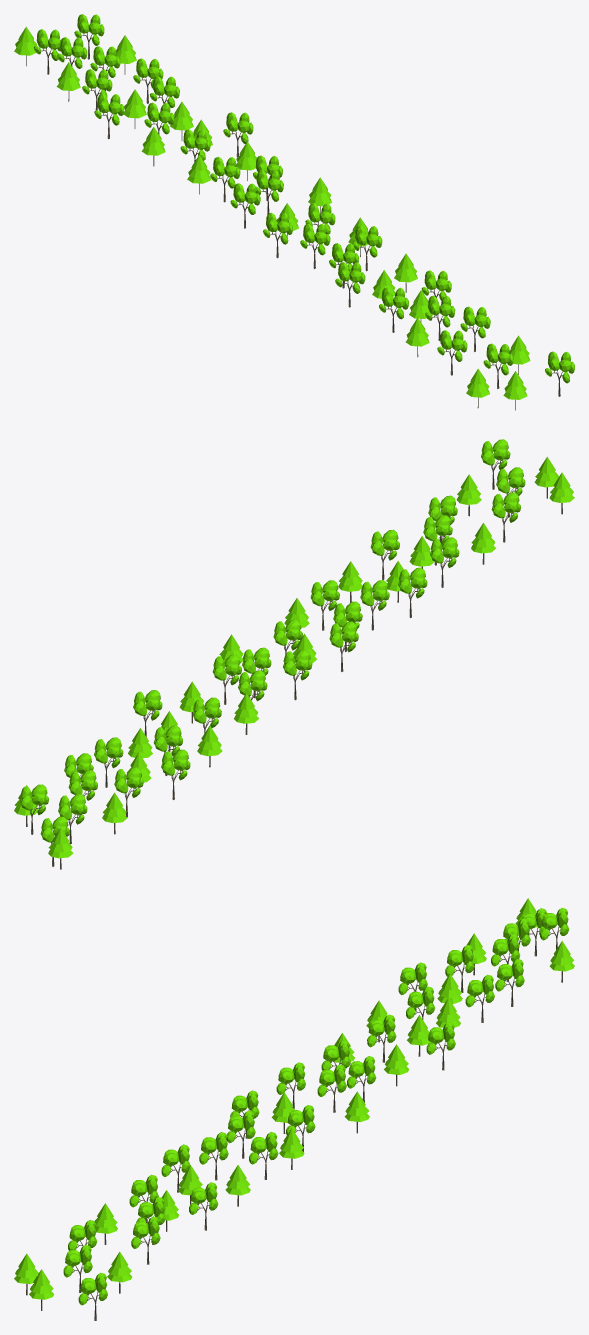
Rendered from groun_thrrr_shadow.fbx.
The picture shows the model from 3 angles, top to bottom: view 1: azimuth 30°, elevation 25°; view 2: azimuth 150°, elevation 25°; view 3: azimuth 330°, elevation 25°; orthographic projection. The views are drawn at different scales.
Visible parts, largest first — view 1: Cone.015; view 2: Cone.015; view 3: Cone.015.
Part boxes in pixels (bbox=[...]): Cone.015: bbox=[14, 14, 574, 410]; Cone.015: bbox=[14, 439, 574, 869]; Cone.015: bbox=[14, 898, 574, 1320].
Size of the model in its own units: 3189 by 1730 by 26039.
